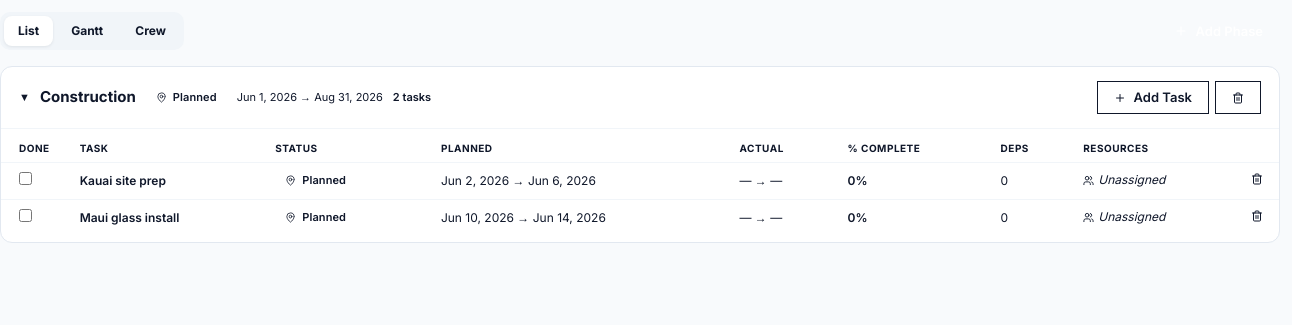
Scenario: ScheduleTab projectIsland auto-wire (BAN-374 P6) › switches the freight-overlay default ON when projectIsland identifies a known Hawaii island
Click the tab "Gantt": (87, 31) [57, 16, 117, 46]
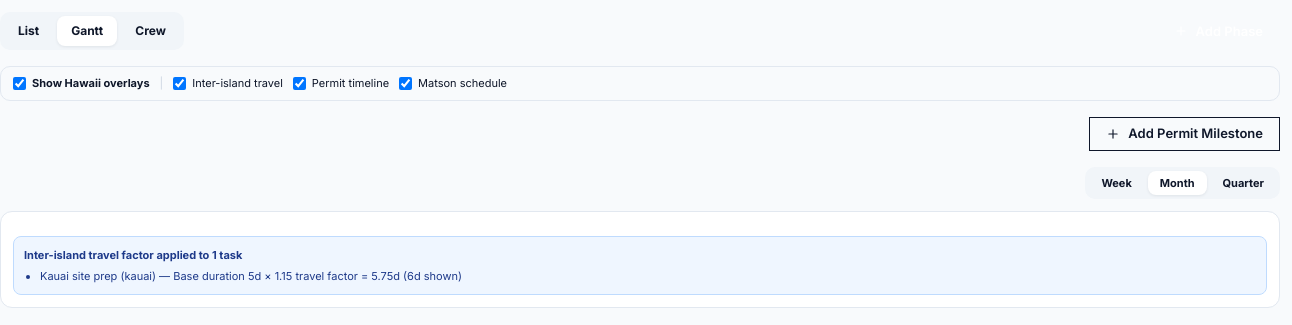
Check: the checkbox labelled "Matson schedule" is checked, box [399, 77, 412, 90]
